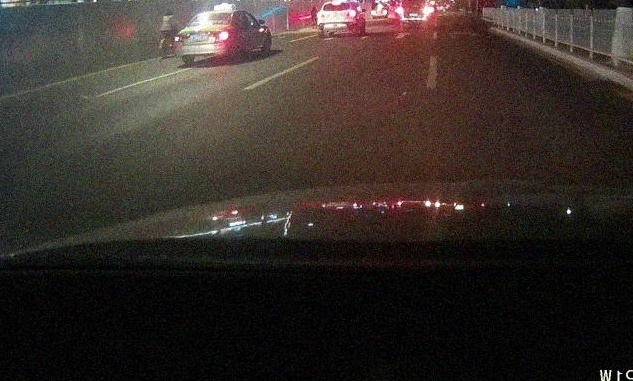L_light: (175, 34, 190, 42)
R_light: (209, 31, 229, 41)
T_light: (207, 13, 216, 15)
night-right: (174, 11, 233, 62)
